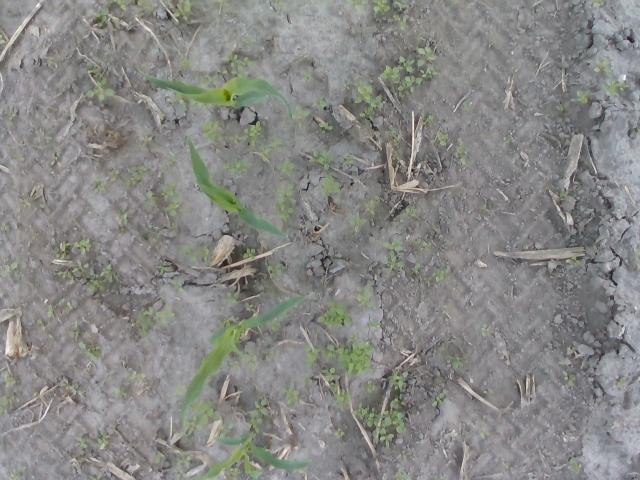Maize: (181, 294, 309, 426), (183, 134, 287, 240), (134, 64, 292, 116), (189, 427, 312, 480)
Weeds: (352, 395, 406, 448), (380, 56, 440, 97), (326, 331, 374, 376), (132, 303, 174, 338), (183, 400, 220, 436), (353, 80, 384, 120), (317, 300, 352, 328), (273, 183, 296, 223), (380, 237, 404, 271), (224, 50, 254, 77), (88, 263, 114, 292), (248, 399, 270, 433), (86, 77, 115, 101), (331, 382, 354, 410), (257, 137, 282, 161), (242, 121, 264, 147), (224, 157, 252, 177), (316, 174, 341, 196), (182, 243, 210, 262), (438, 348, 463, 369), (355, 284, 375, 310), (125, 166, 148, 188), (602, 80, 630, 98), (309, 150, 334, 170), (200, 69, 227, 87), (290, 105, 310, 128), (173, 0, 194, 21), (387, 370, 408, 391), (202, 120, 223, 141), (164, 196, 186, 216), (50, 238, 70, 260), (60, 378, 84, 396), (78, 342, 102, 360), (168, 91, 188, 112), (305, 346, 324, 368), (242, 350, 260, 373), (416, 46, 436, 66), (159, 182, 184, 198), (71, 258, 89, 280), (282, 382, 300, 404), (0, 393, 17, 415), (275, 158, 294, 177), (593, 57, 613, 75), (34, 129, 52, 149), (432, 266, 452, 284), (349, 212, 366, 232), (372, 0, 390, 18), (93, 8, 109, 28), (97, 429, 111, 450), (142, 190, 160, 206), (138, 232, 162, 244), (2, 108, 18, 126), (384, 128, 400, 146), (430, 130, 448, 146), (188, 98, 208, 112), (218, 422, 235, 438), (365, 196, 380, 214), (570, 90, 589, 104), (346, 0, 368, 12), (2, 371, 18, 387), (322, 367, 339, 382), (562, 370, 576, 388), (360, 380, 378, 394), (162, 156, 176, 174), (178, 56, 194, 71), (393, 14, 408, 30), (58, 298, 73, 314), (456, 145, 468, 165), (68, 321, 82, 338), (74, 238, 91, 252), (394, 467, 412, 480), (55, 270, 74, 282), (177, 453, 192, 468), (263, 348, 280, 361), (136, 0, 154, 12), (568, 456, 580, 474), (12, 465, 26, 480), (267, 264, 282, 278), (412, 239, 431, 250), (92, 178, 105, 194), (226, 467, 242, 480), (1, 262, 17, 275), (218, 315, 234, 328), (461, 101, 475, 115), (312, 96, 328, 108), (168, 280, 184, 292), (317, 122, 333, 134), (432, 394, 446, 407), (268, 318, 281, 332), (108, 0, 126, 10), (402, 206, 417, 218), (139, 135, 154, 147), (396, 450, 412, 461), (117, 208, 128, 224), (107, 168, 119, 182), (342, 152, 354, 166), (157, 261, 169, 275), (302, 373, 314, 387), (113, 387, 128, 398), (172, 468, 186, 479), (275, 0, 285, 15), (334, 426, 346, 438), (154, 452, 166, 464), (226, 292, 238, 304), (423, 114, 435, 126), (302, 68, 312, 82), (172, 384, 186, 394), (410, 262, 420, 276), (242, 248, 256, 258), (40, 202, 51, 214), (76, 437, 88, 448), (228, 134, 244, 142), (565, 256, 581, 264), (246, 36, 256, 48), (554, 103, 569, 111), (12, 152, 24, 162), (480, 324, 490, 336), (130, 372, 145, 380), (36, 318, 46, 330), (50, 154, 60, 166), (245, 302, 256, 312), (229, 360, 240, 370), (502, 136, 512, 147), (341, 80, 350, 92), (214, 0, 228, 7), (396, 1, 410, 8), (588, 0, 602, 7), (89, 473, 103, 480), (366, 321, 379, 328), (480, 428, 490, 437), (97, 57, 109, 64), (87, 66, 97, 74), (618, 378, 628, 386), (47, 308, 55, 318), (282, 310, 292, 318), (294, 467, 305, 474), (434, 475, 446, 480), (481, 204, 488, 212), (170, 222, 178, 229), (560, 192, 566, 201), (0, 34, 5, 44), (571, 192, 578, 199), (48, 60, 56, 66), (635, 247, 640, 256), (452, 0, 459, 6), (322, 0, 332, 3)
